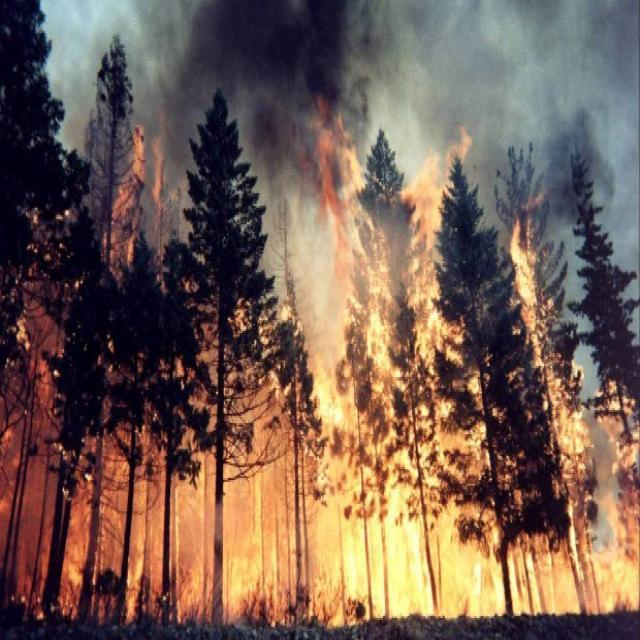Fire: (306, 102, 586, 516), (328, 522, 640, 631), (217, 454, 294, 628), (100, 119, 180, 275), (594, 372, 640, 620)
Smoke: (61, 0, 640, 393)
